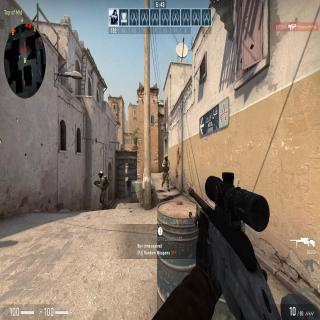CT-Body: (96, 169, 106, 206), (160, 153, 170, 186), (126, 178, 128, 190)
CT-Head: (98, 171, 103, 178), (164, 154, 168, 160), (128, 179, 128, 181)
